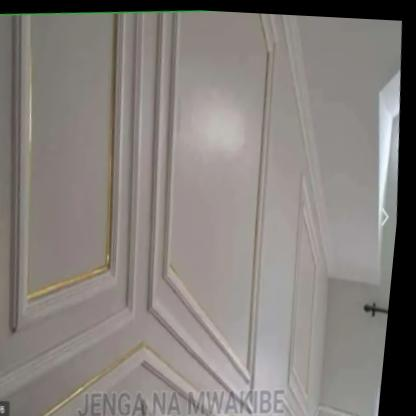Futec frame: (0, 13, 146, 403)
